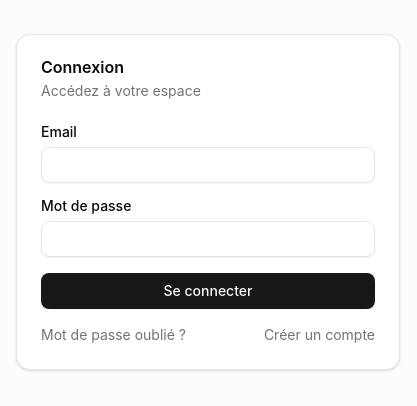
it: LoginPage › affiche le message serveur quand login() échoue
The image size is (417, 406).
Type "a@b.com" into the field labelled "Email" at (208, 165), box [41,147,375,183]
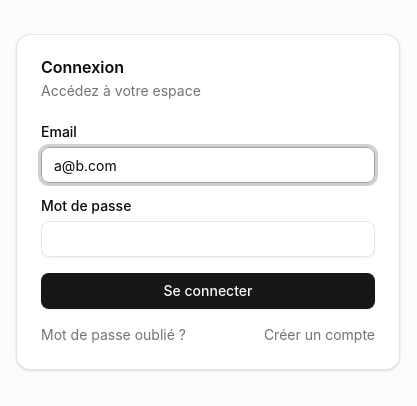
Type "wrong-password" into the password field labelled "Mot de passe" at (208, 239), box [41,221,375,257]
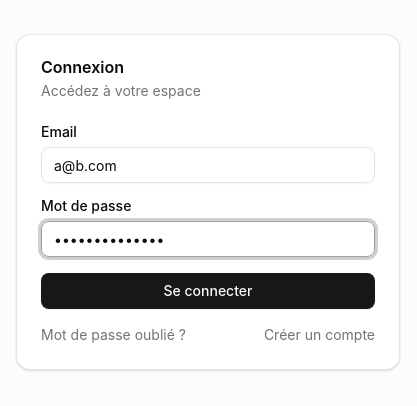
Click the button "Se connecter" at (208, 291), box [41,273,375,309]
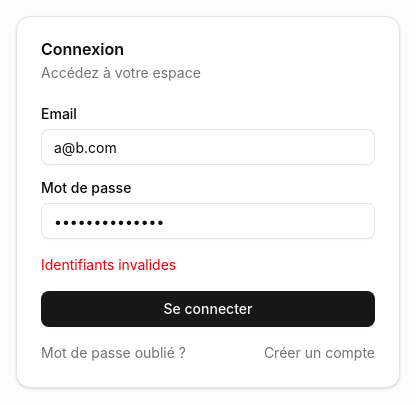
Now the text "Identifiants invalides" is shown, box [41,256,176,273]
